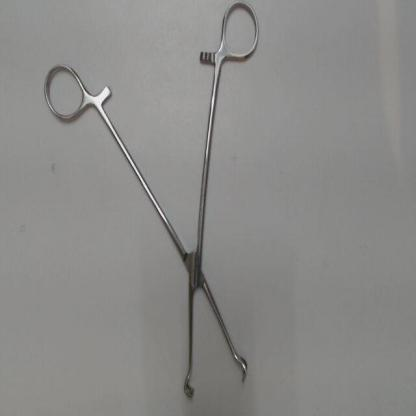8 Babcock Tissue Forceps: (40, 0, 268, 408)
